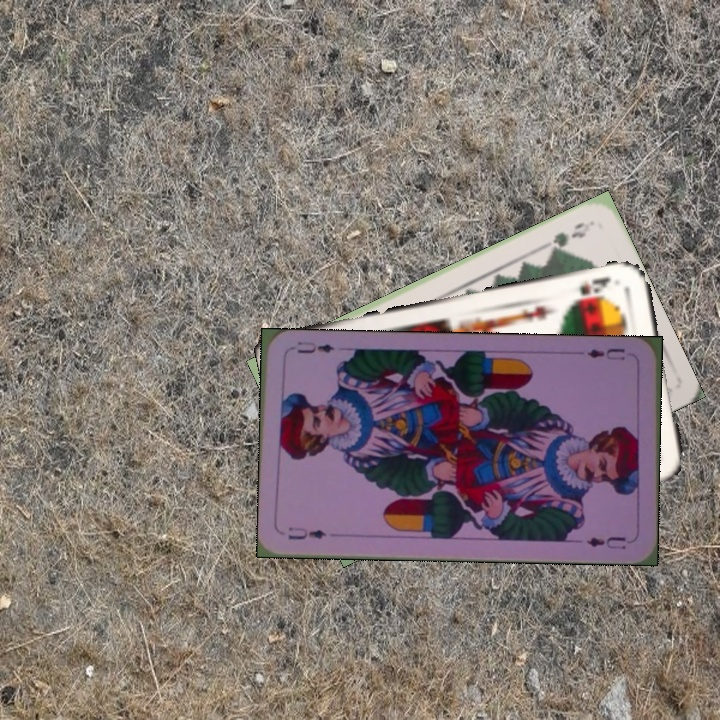EU: (284, 523, 329, 542), (583, 344, 627, 363)
G9: (544, 217, 594, 256)
SK: (569, 273, 614, 305)
